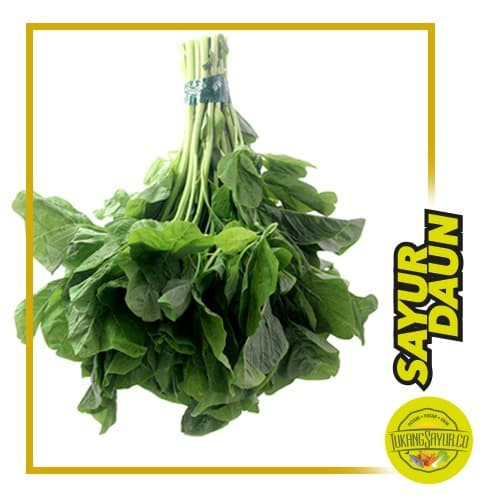Bayam: (62, 49, 376, 448)
